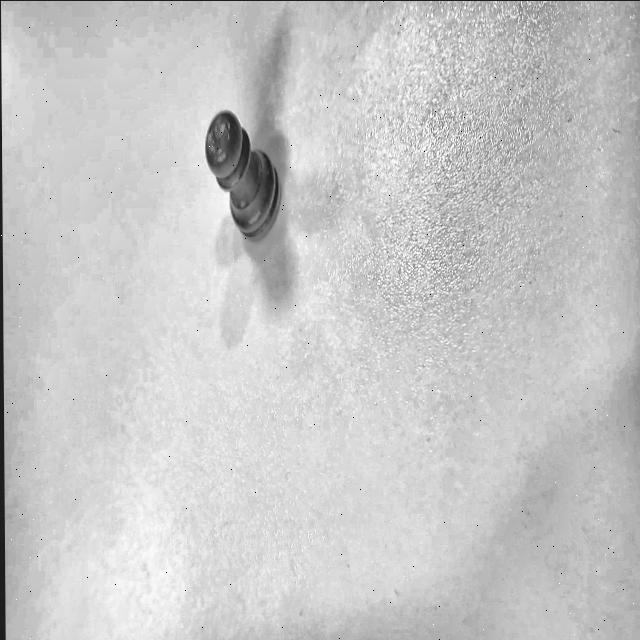black-pawn: (201, 104, 284, 248)
